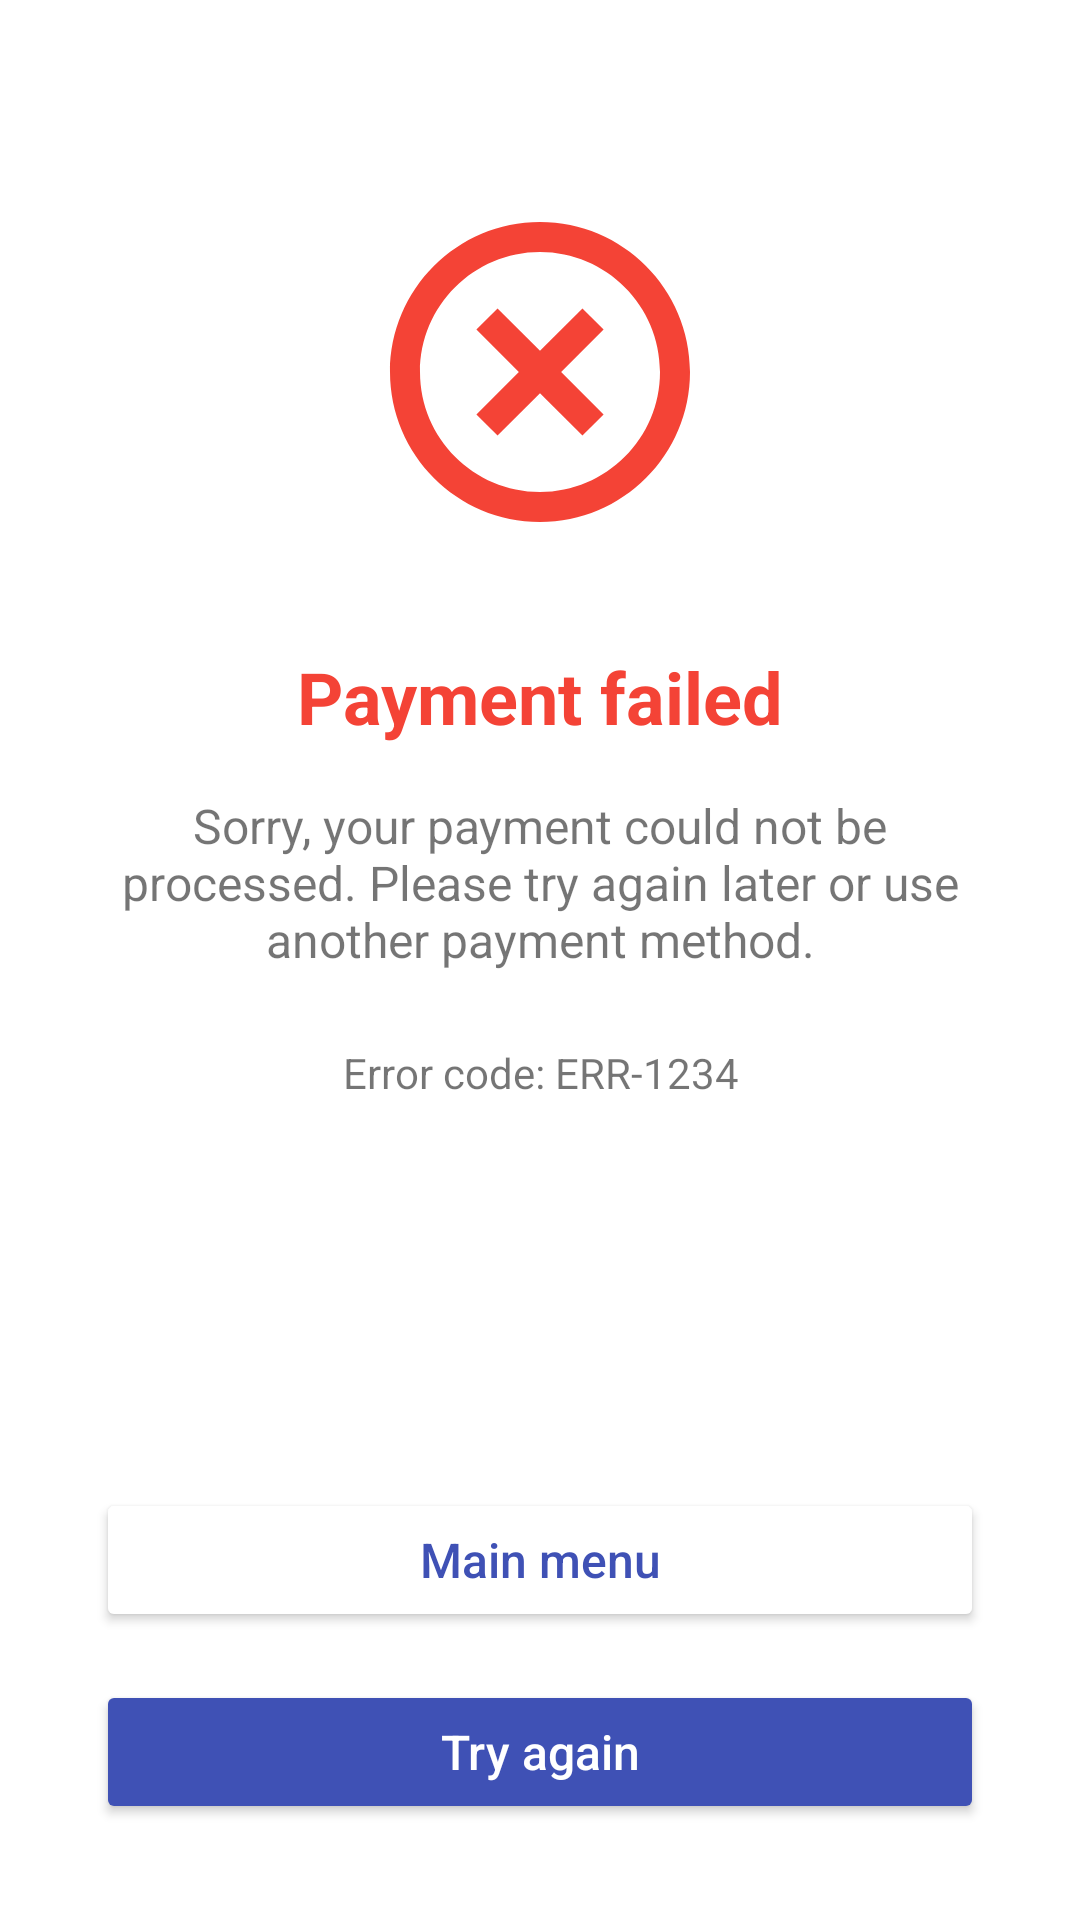

Screen size 1080px x 1920px. Icon name, then its center in pixels as [x,y]:
Failure icon: [540,372]
